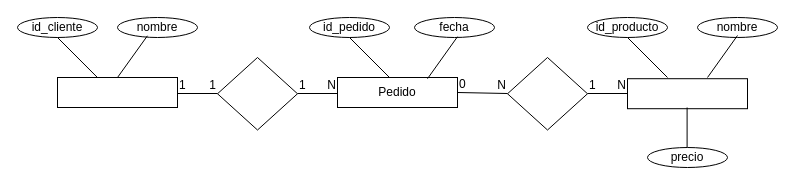
The diagram is 795 pixels wide and 185 high, and some of its shapes have lost their labels. Here are the shapes that lost their labels. From the top down, the box of each, then its label:
(56, 76, 178, 108): Cliente
(216, 56, 298, 130): Realiza
(506, 56, 588, 130): Contiene
(626, 78, 748, 109): Productos
